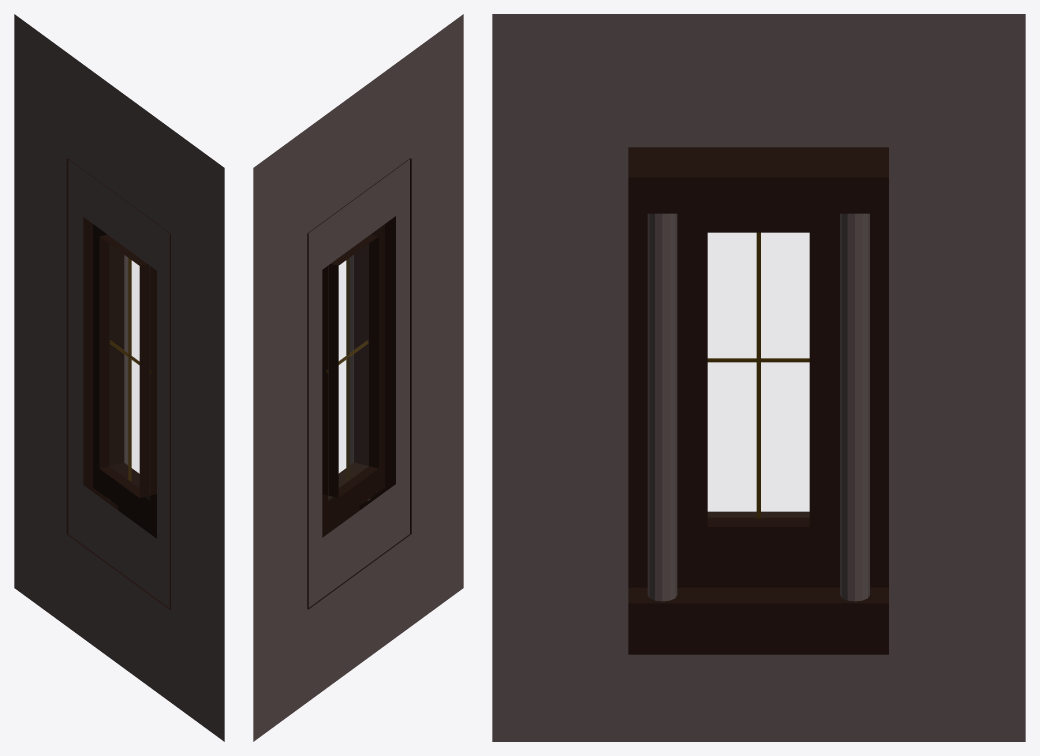
File: Pared_Ventanal_05.fbx
The picture shows the model from 3 angles, left to right: view 1: azimuth 30°, elevation 25°; view 2: azimuth 150°, elevation 25°; view 3: azimuth 270°, elevation 25°; orthographic projection. The views are drawn at different scales.
Visible parts, largest first — view 1: polySurface31, Ventanal, Columna_02, Barrote; view 2: polySurface31, Ventanal, Columna_01, Barrote; view 3: polySurface31, Ventanal, Columna_01, Columna_02, Barrote.
Boxes of the visible parts, x1,y1,x2,y2 form: polySurface31: [14, 14, 224, 741]; Ventanal: [66, 158, 170, 609]; Columna_02: [107, 255, 128, 500]; Barrote: [109, 258, 151, 481]; polySurface31: [253, 14, 463, 741]; Ventanal: [307, 158, 411, 609]; Columna_01: [349, 255, 370, 500]; Barrote: [326, 258, 368, 481]; polySurface31: [492, 14, 1025, 741]; Ventanal: [628, 147, 888, 654]; Columna_01: [647, 213, 677, 601]; Columna_02: [840, 213, 869, 601]; Barrote: [707, 232, 809, 518].
Size of the model in its own units: 1.7 by 18 by 11.95.
